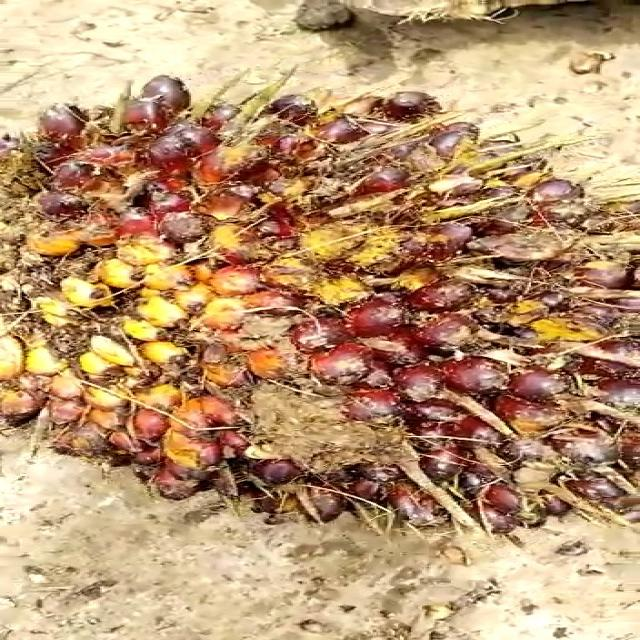palm oil: (0, 76, 640, 548)
